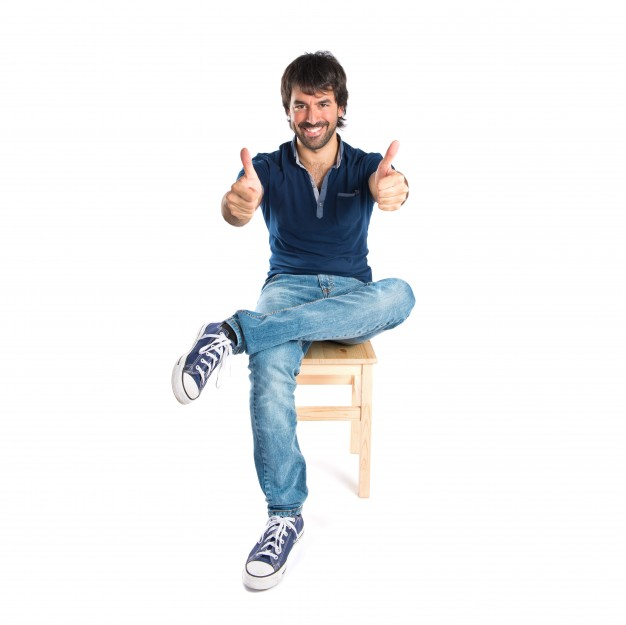thumbsup: (226, 147, 259, 220), (376, 140, 409, 211)
